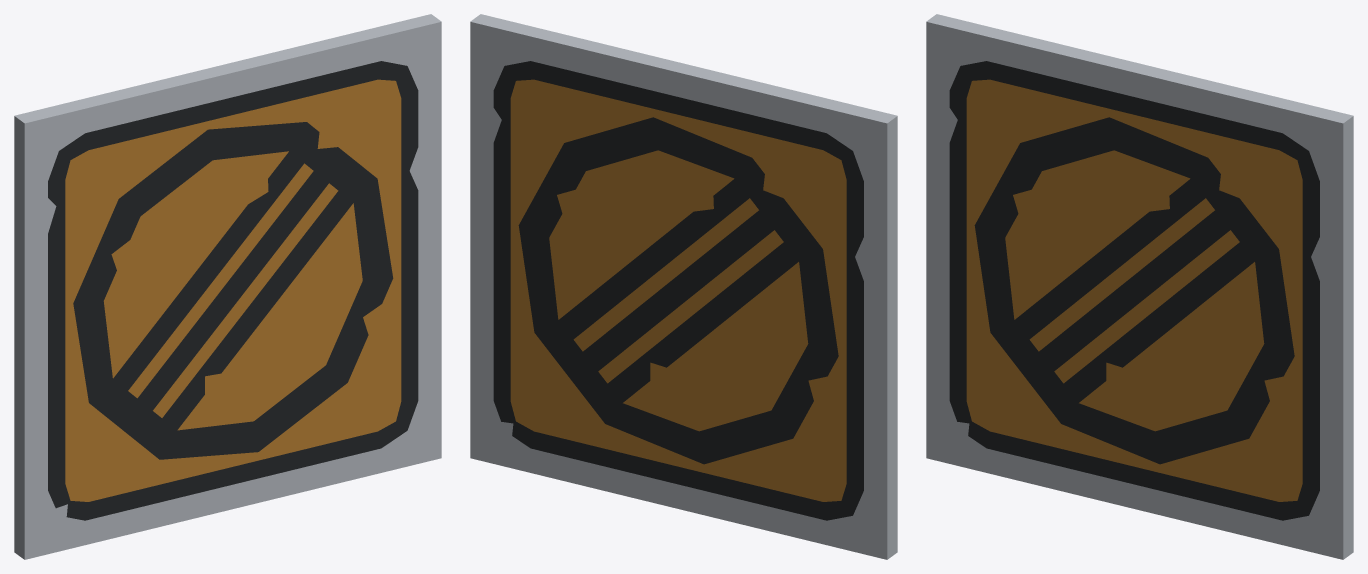
Rendered from SM_Prop_Sign_Checkpoint_01.fbx.
3 renders of one model, left to right at view 1: azimuth 30°, elevation 25°; view 2: azimuth 150°, elevation 25°; view 3: azimuth 330°, elevation 25°, orthographic.
Visible parts, largest first — view 1: SM_Prop_Sign_Checkpoint_01; view 2: SM_Prop_Sign_Checkpoint_01; view 3: SM_Prop_Sign_Checkpoint_01.
Part boxes in pixels (x1,y1,x2,y2): SM_Prop_Sign_Checkpoint_01: (14,14,441,559); SM_Prop_Sign_Checkpoint_01: (470,14,897,559); SM_Prop_Sign_Checkpoint_01: (926,14,1353,559).
Size of the model in its own units: 191 by 191 by 8.35.
